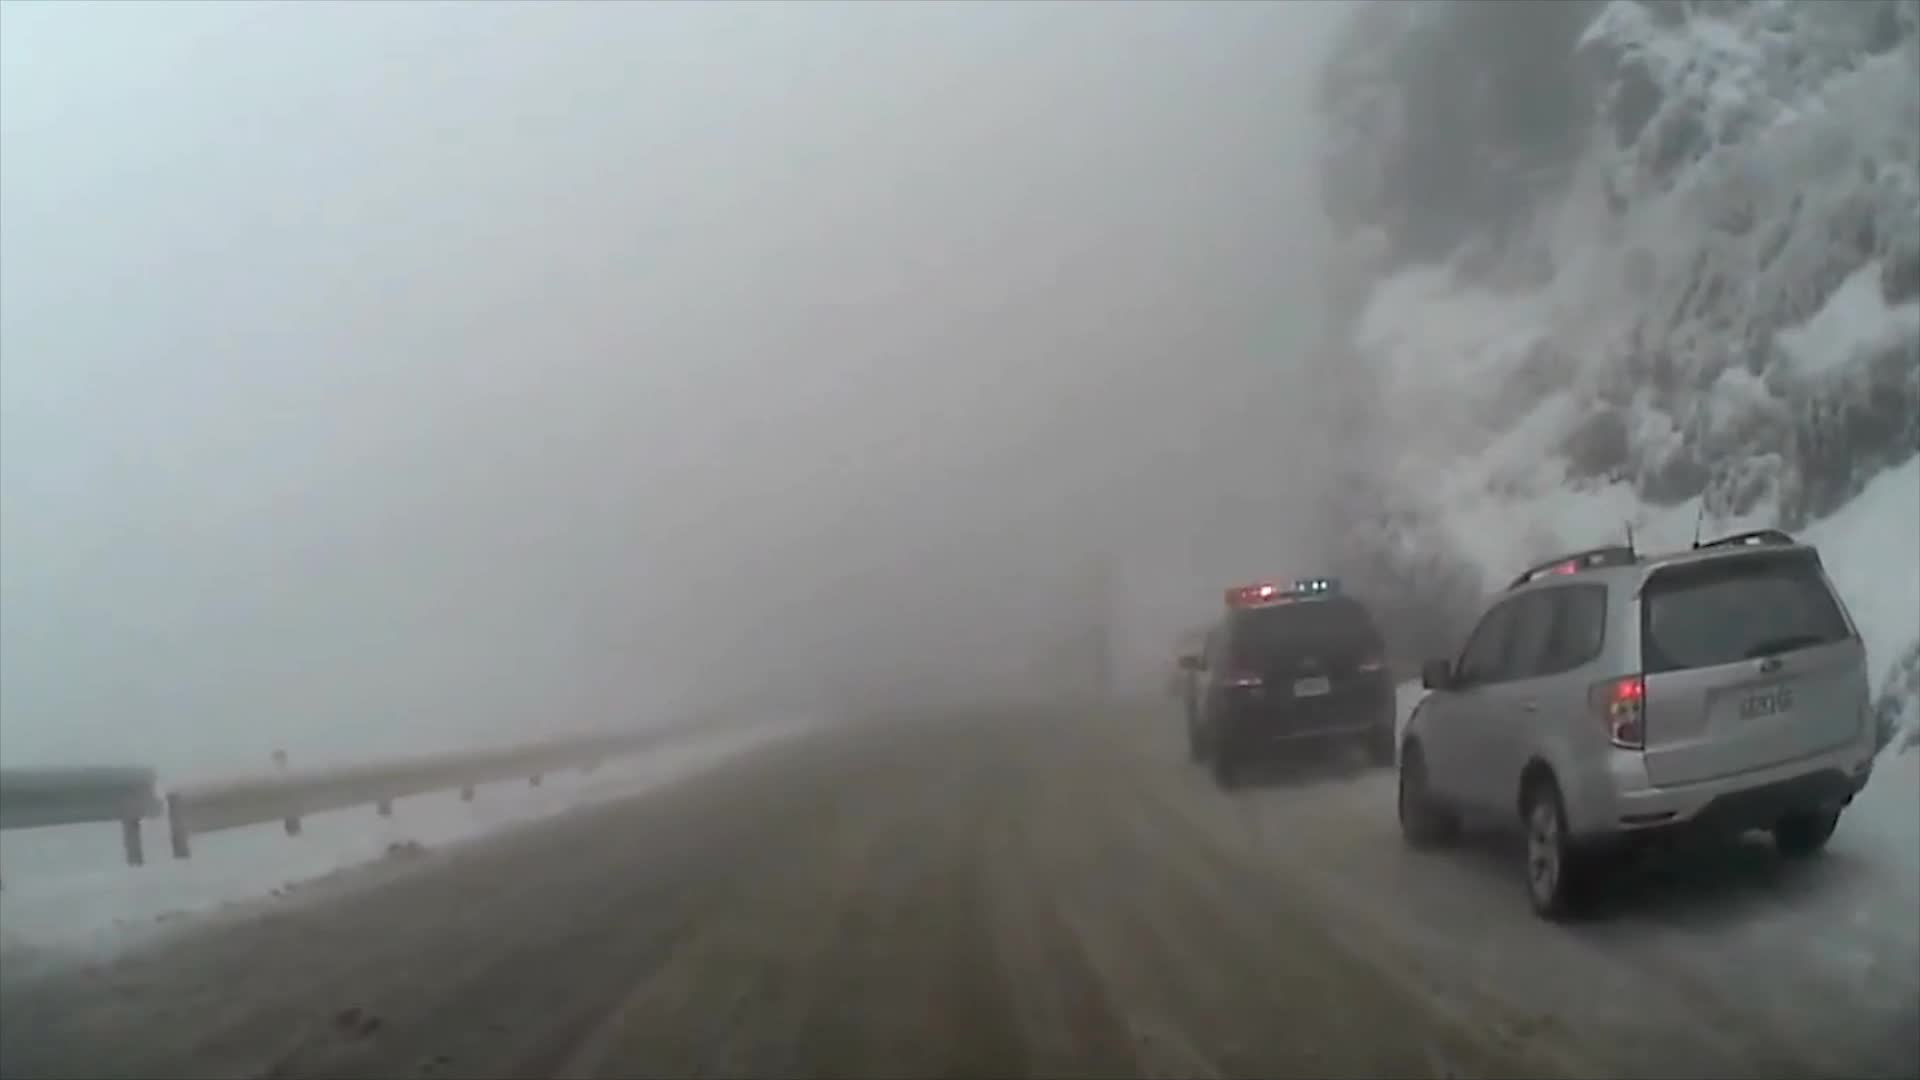vehicle: (1396, 524, 1878, 919), (1172, 578, 1393, 791)
